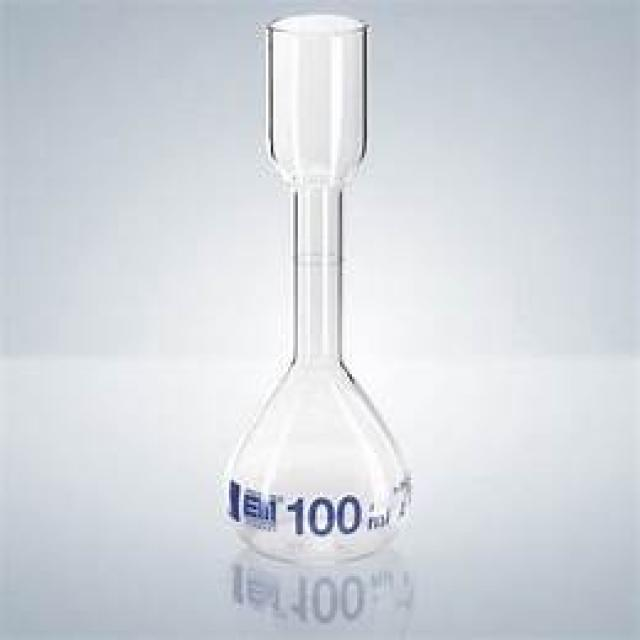Volumetric flask: (196, 24, 426, 561)
